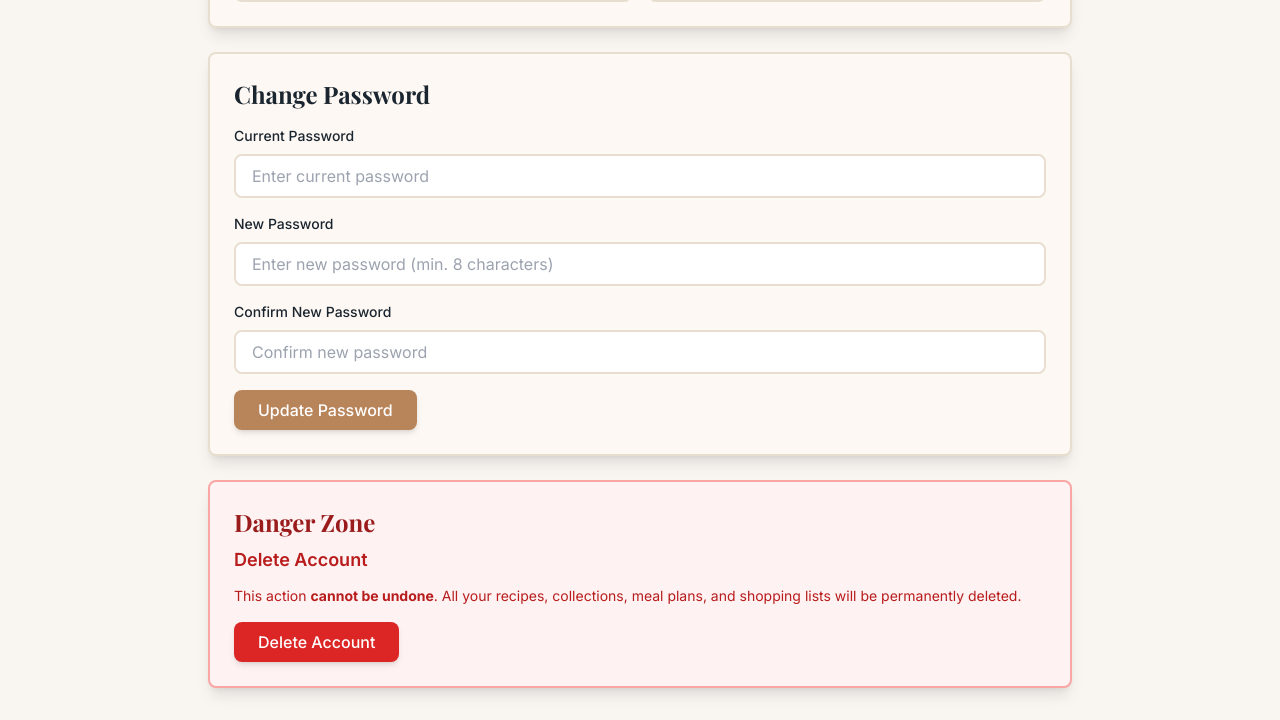
AccountSettingsPage › opens delete modal when delete button clicked
(page scrolled)
Click the button "Delete Account".
click(317, 642)  # box [234,622,399,662]
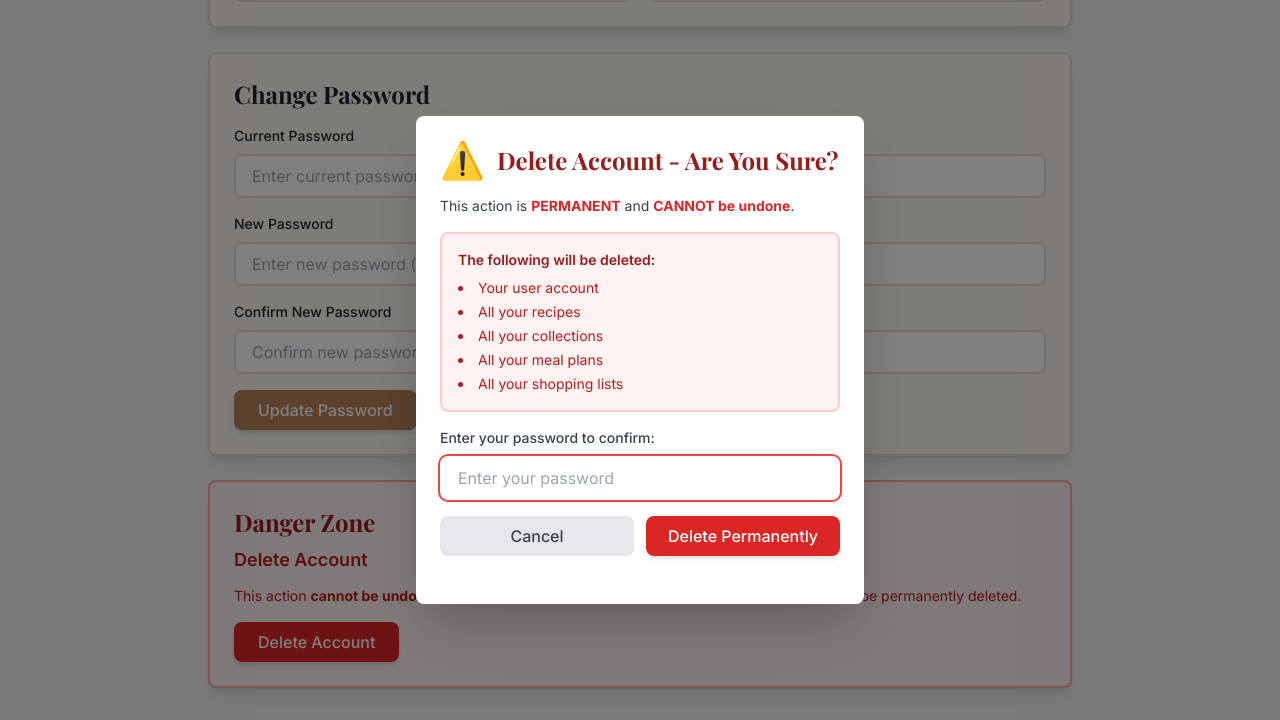
Result: the heading "Delete Account - Are You Sure?" is shown at [497,144,838,176]
